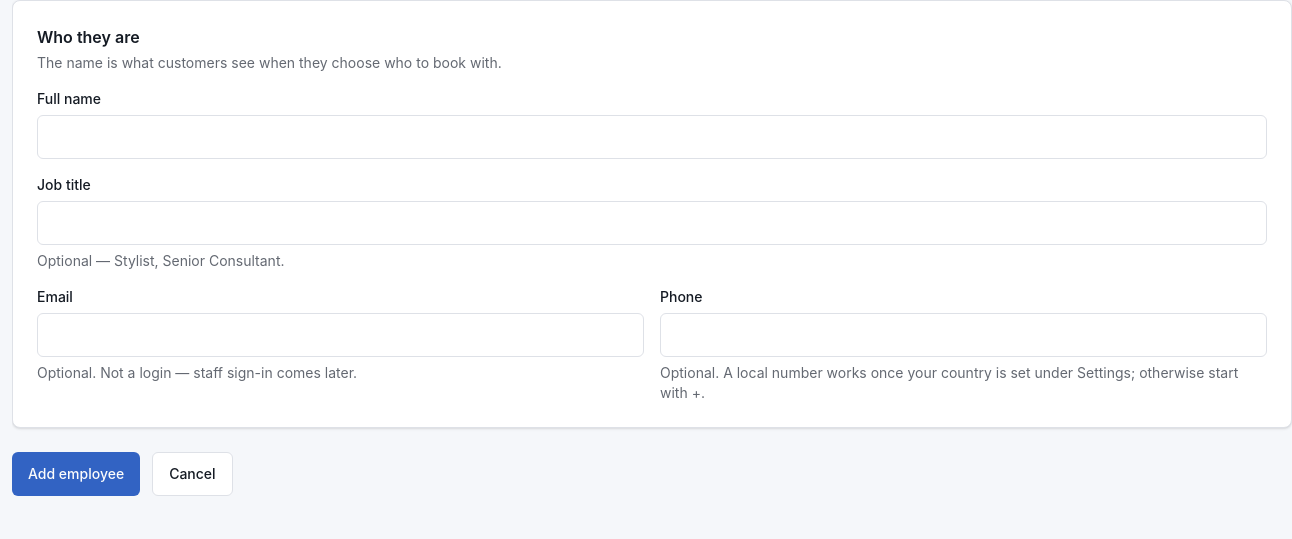
EmployeeForm, refused › puts each fielded message against the field it names, and no banner
In the field labelled "Full name": coordinates (652, 137) [37,115,1267,159], type "Nino Beridze"
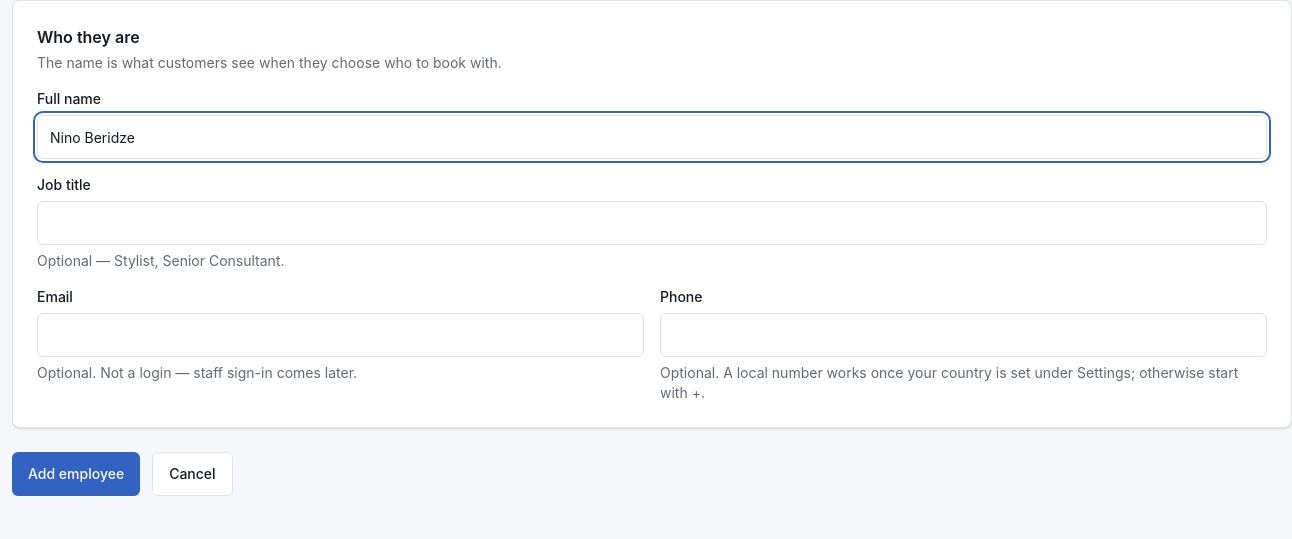
Click the button "Add employee": coordinates (76, 474) [12,452,140,496]
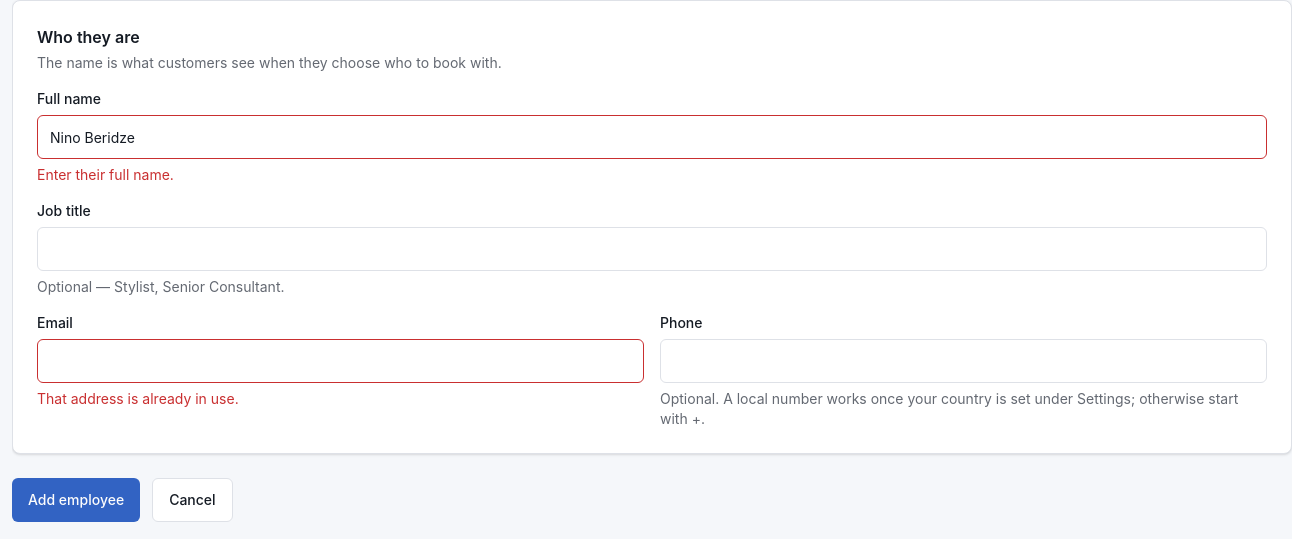
Now the text "Enter their full name." is shown, box [37,166,174,183]
